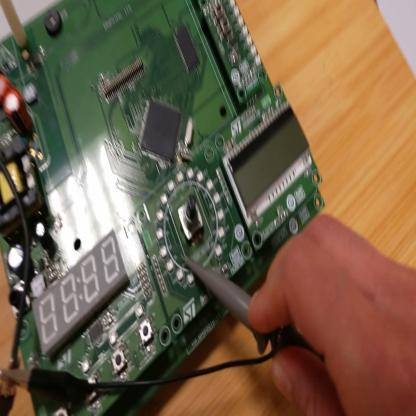hand: (246, 221, 416, 416)
low voltage board: (2, 1, 326, 416)
oscilloscope probe tip: (183, 261, 328, 365)
